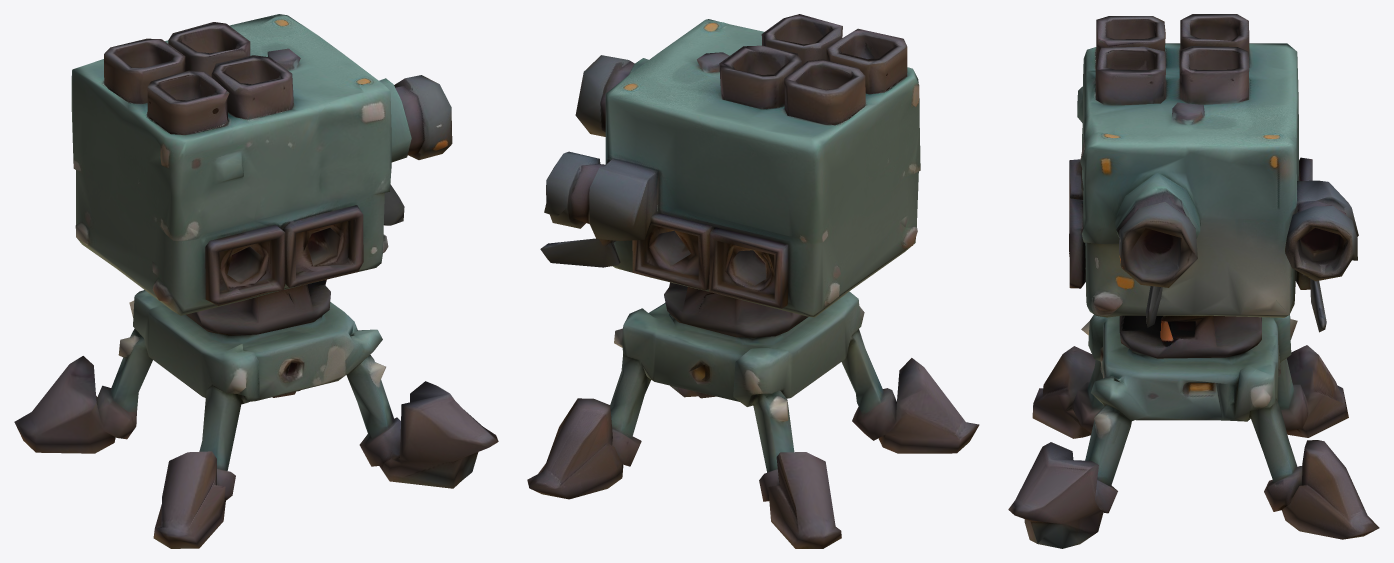
The model's file is utility_rocket_turret_3000.glb.
3 renders of one model, left to right at view 1: azimuth 30°, elevation 25°; view 2: azimuth 150°, elevation 25°; view 3: azimuth 270°, elevation 25°, orthographic.
Parts seen in each view (by area): view 1: tripo_node_839a44fa-9957-4708-a593-062980c57b62; view 2: tripo_node_839a44fa-9957-4708-a593-062980c57b62; view 3: tripo_node_839a44fa-9957-4708-a593-062980c57b62.
Part boxes in pixels (<box>): tripo_node_839a44fa-9957-4708-a593-062980c57b62: <box>14,14,498,548</box>; tripo_node_839a44fa-9957-4708-a593-062980c57b62: <box>527,14,979,548</box>; tripo_node_839a44fa-9957-4708-a593-062980c57b62: <box>1008,14,1379,548</box>.
Size of the model in its own units: 0.8082 by 0.9789 by 0.8047.
Materials: 1 (1 with a texture image).
